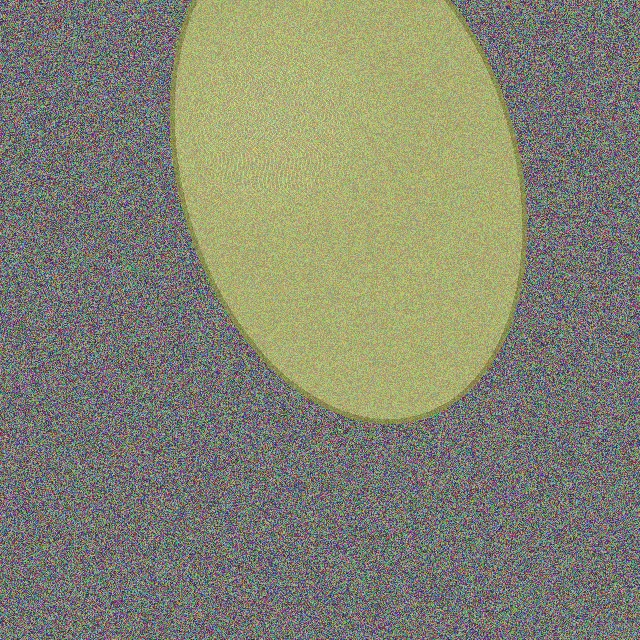lens: (173, 0, 523, 421)
